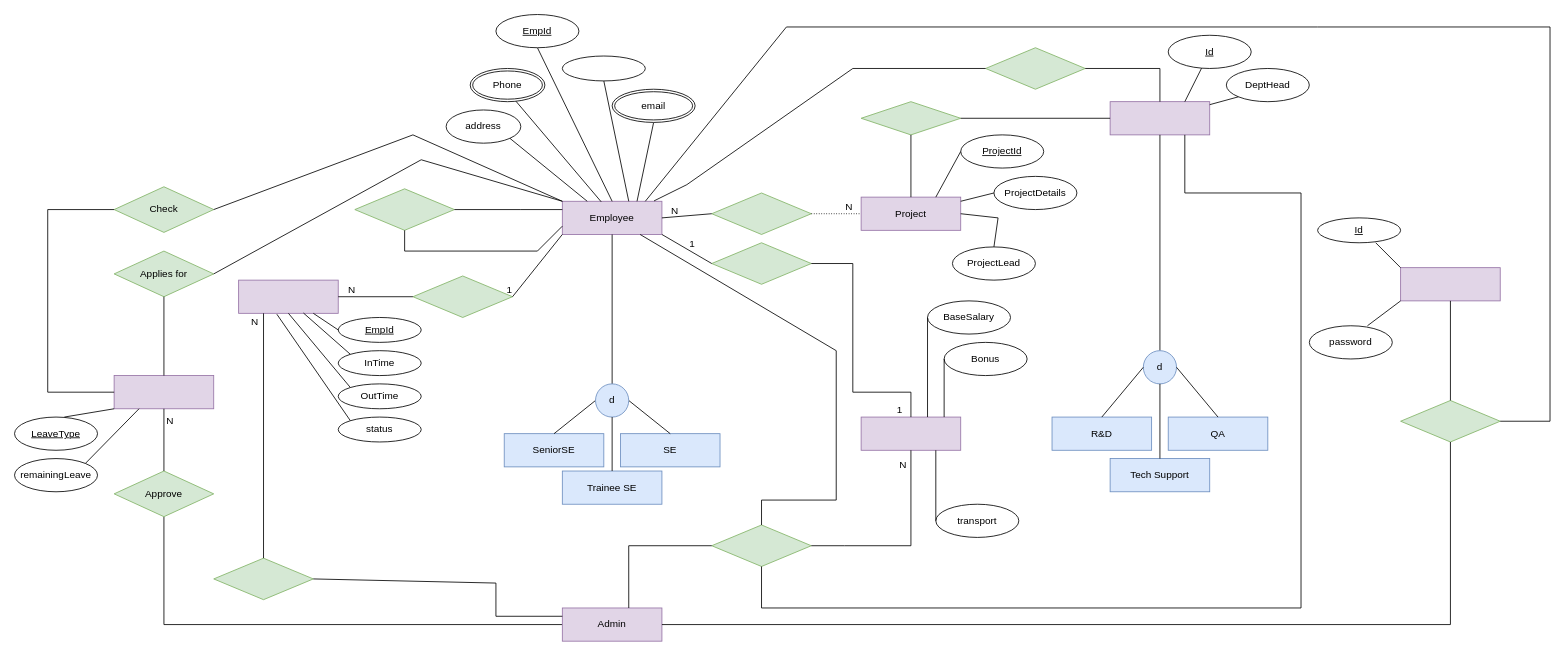
Some shapes in this 1565 by 656 pixel diagram are drawn without their labels. Each missing label, with the centre of its shape:
"Attendance" goes at (288,296).
"Department" goes at (1159,118).
"give" goes at (462,296).
"Has" goes at (910,118).
"Leave" goes at (163,392).
"Login" goes at (1450,284).
"Manage" goes at (761,545).
"Monitor" goes at (263,578).
"Name" goes at (603,68).
"Receive" goes at (761,263).
"Requires" goes at (1450,421).
"Salary" goes at (910,433).
"Supervise" goes at (404,209).
"Works in" goes at (1035,68).
"Works on" goes at (761,213).
